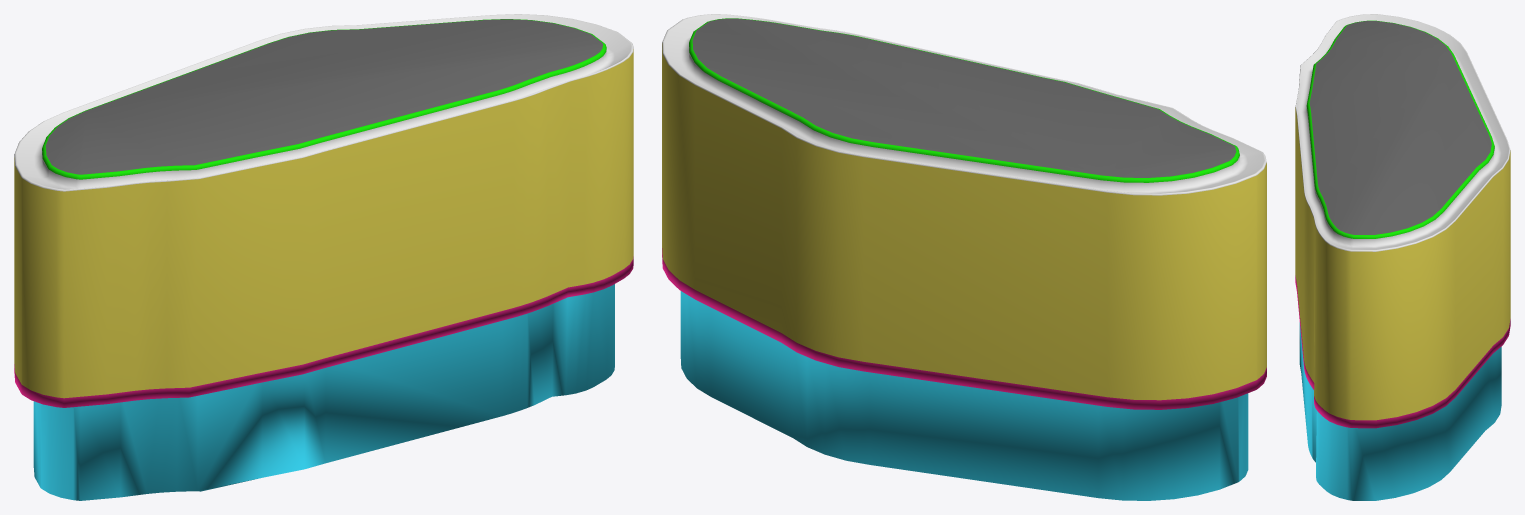
Rendered from table.fbx.
3 views of the same model, side by side, from view 1: azimuth 30°, elevation 25°; view 2: azimuth 150°, elevation 25°; view 3: azimuth 270°, elevation 25° (orthographic). The views are drawn at different scales.
Visible parts, largest first — view 1: Circle; view 2: Circle; view 3: Circle.
Boxes of the visible parts, bbox=[...] form: Circle: bbox=[14, 14, 633, 500]; Circle: bbox=[662, 14, 1266, 500]; Circle: bbox=[1295, 14, 1510, 500].
Size of the model in its own units: 524 by 270 by 201.
